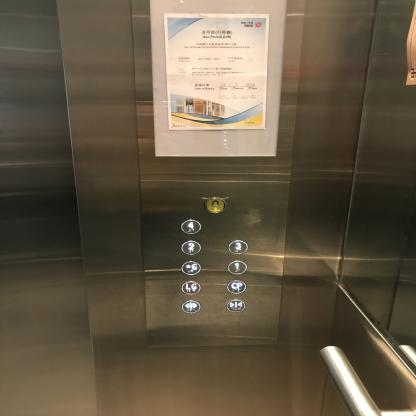1: (226, 259, 248, 275)
2: (180, 240, 201, 256)
3: (226, 239, 249, 255)
4: (180, 218, 201, 235)
CP: (226, 279, 246, 294)
LG: (180, 280, 202, 296)
alarm: (204, 196, 227, 214)
close: (225, 298, 246, 313)
open: (180, 299, 201, 314)
sG: (180, 260, 201, 276)
